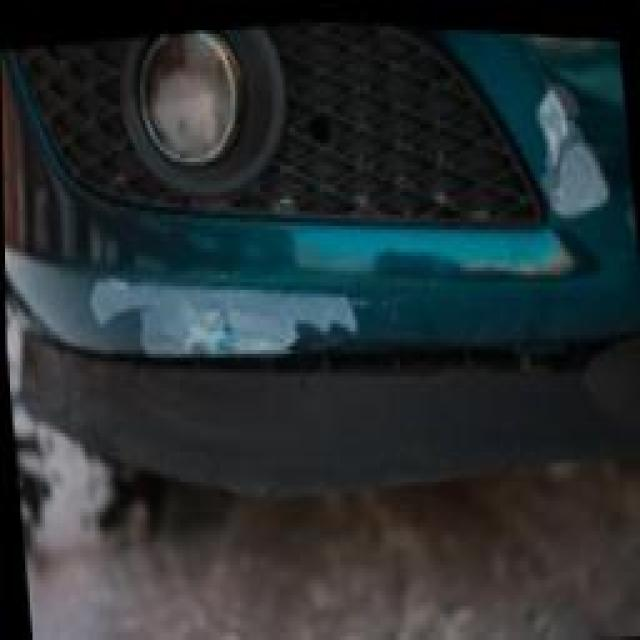Bumper: (59, 19, 631, 353)
